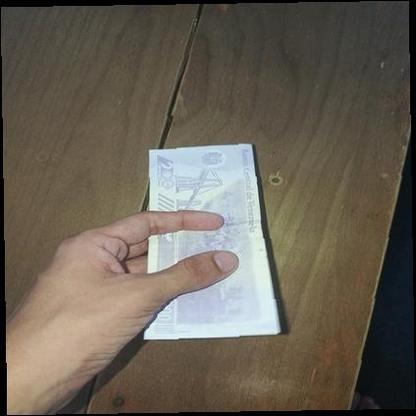two_hundred-back-vef: (142, 143, 282, 340)
